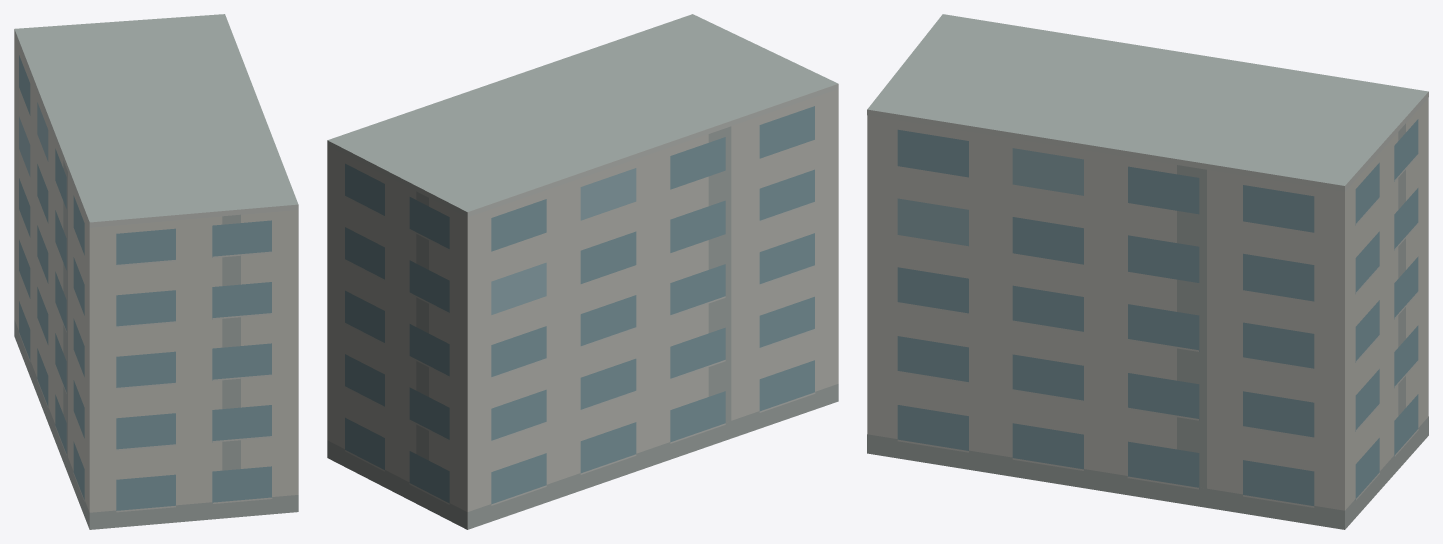
File: survey-upis-32878396.glb
3 renders of one model, left to right at view 1: azimuth 30°, elevation 25°; view 2: azimuth 150°, elevation 25°; view 3: azimuth 270°, elevation 25°, orthographic. The views are drawn at different scales.
Parts seen in each view (by area): view 1: survey-upis-32878396.tmp; view 2: survey-upis-32878396.tmp; view 3: survey-upis-32878396.tmp.
Part boxes in pixels (left/top/right/bottom): survey-upis-32878396.tmp: left=14, top=14, right=298, bottom=529; survey-upis-32878396.tmp: left=327, top=14, right=838, bottom=529; survey-upis-32878396.tmp: left=867, top=14, right=1428, bottom=529.
Size of the model in its own units: 15.34 by 14.3 by 21.18.
